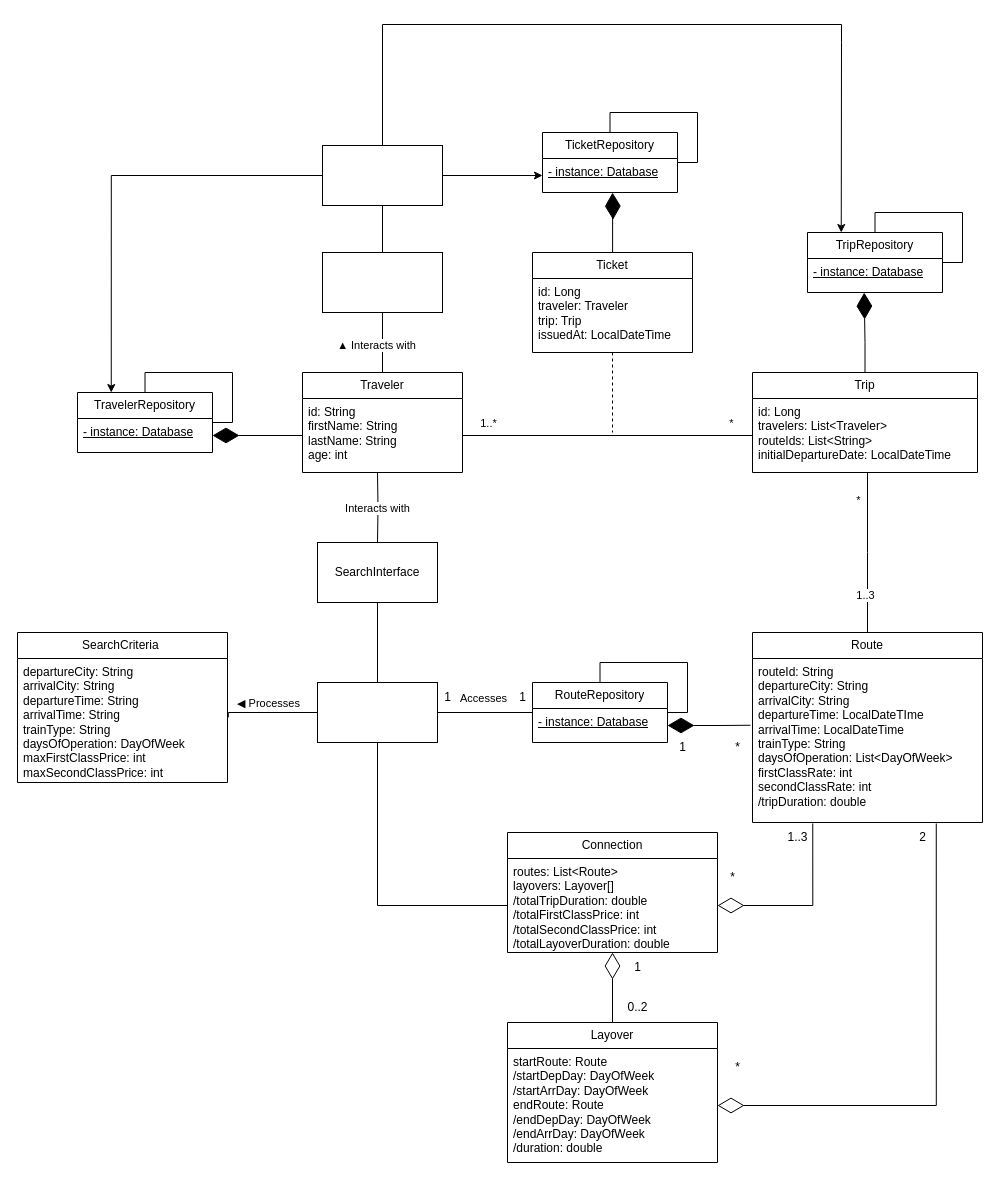
Image size: 1000x1183. Some labels were removed from this diagram. The centre of each missing label's shape, as x and y in pixels:
"SearchService" belongs at [377,712].
"TripSearchInterface" belongs at [382,282].
"TripService" belongs at [382,175].
